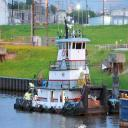tugboat: (14, 17, 109, 120)
